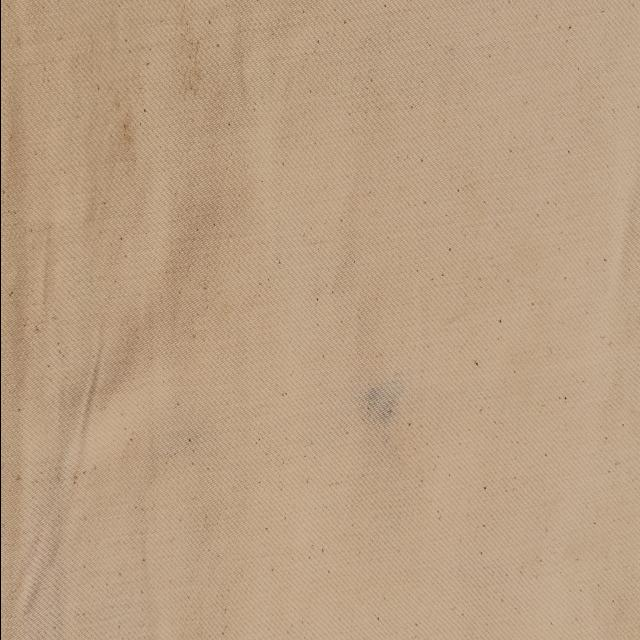taaaches: (356, 357, 420, 459), (168, 10, 220, 120), (114, 86, 146, 175)
